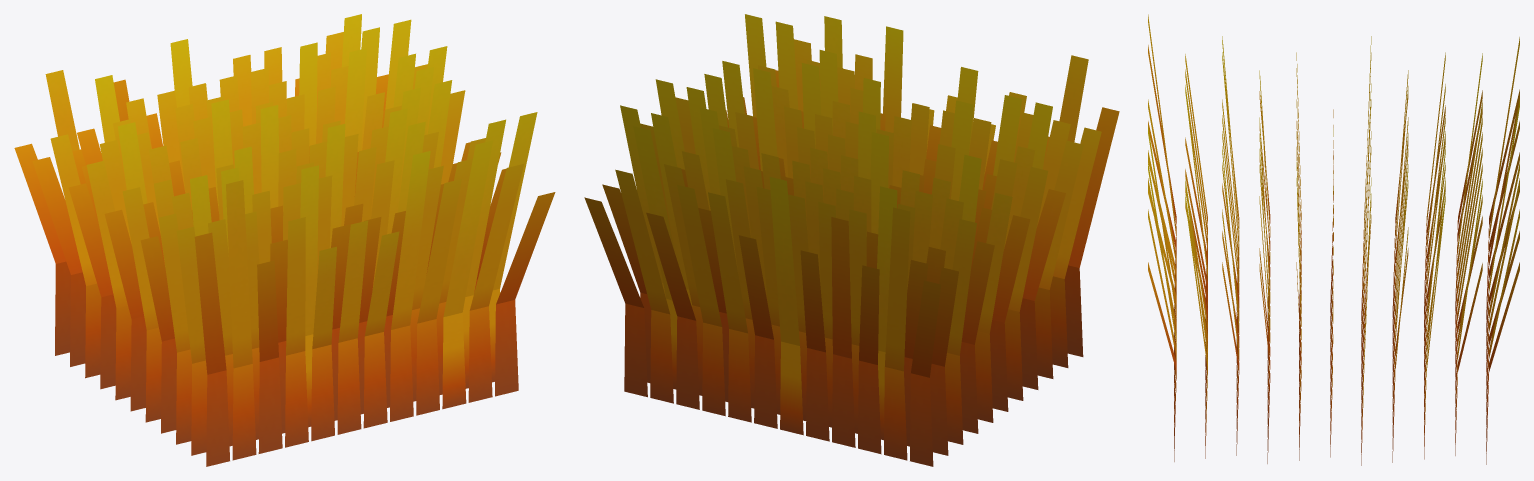
The model's file is block_fields_2_1.fbx.
The picture shows the model from 3 angles, left to right: view 1: azimuth 30°, elevation 25°; view 2: azimuth 150°, elevation 25°; view 3: azimuth 270°, elevation 25°; orthographic projection. The views are drawn at different scales.
Parts seen in each view (by area): view 1: block_fields_2_1; view 2: block_fields_2_1; view 3: block_fields_2_1.
Part boxes in pixels (left/top/right/bottom): block_fields_2_1: left=14, top=14, right=555, bottom=466; block_fields_2_1: left=584, top=14, right=1119, bottom=466; block_fields_2_1: left=1148, top=14, right=1519, bottom=465.
Bounding box in the file's own units: 197 × 151 × 170.
